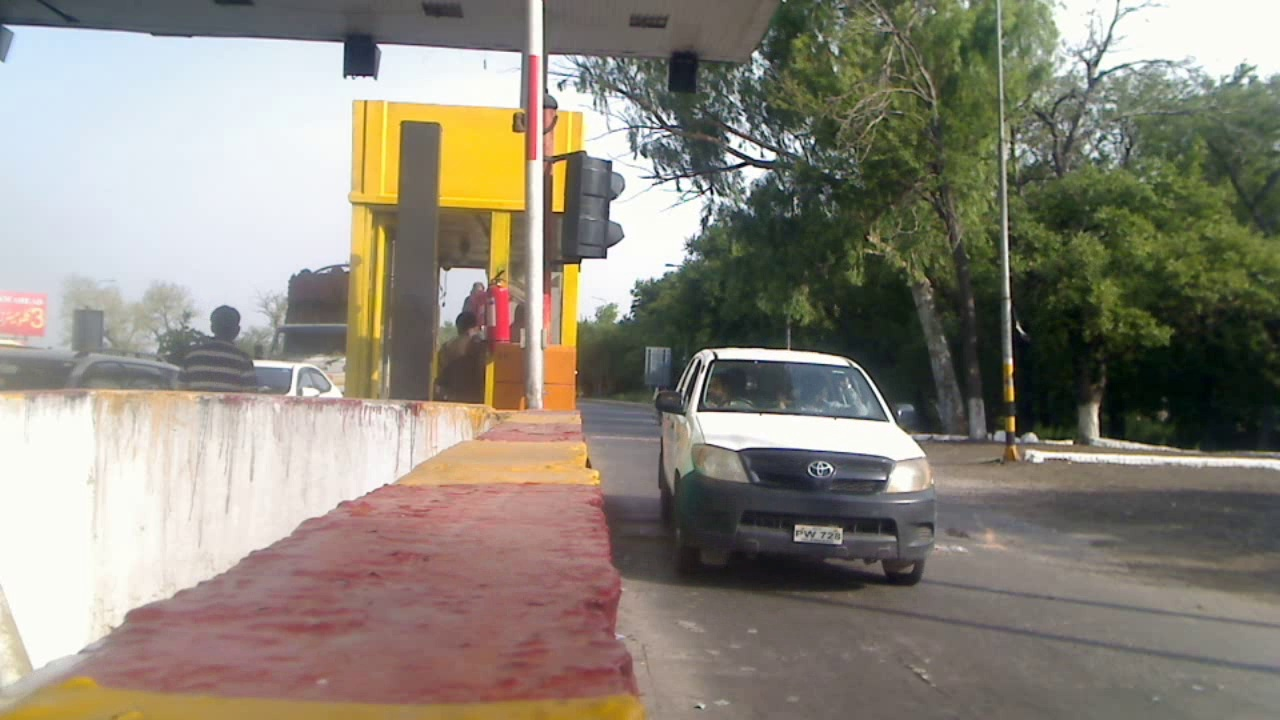Number Plate (Car): (796, 525, 842, 544)
